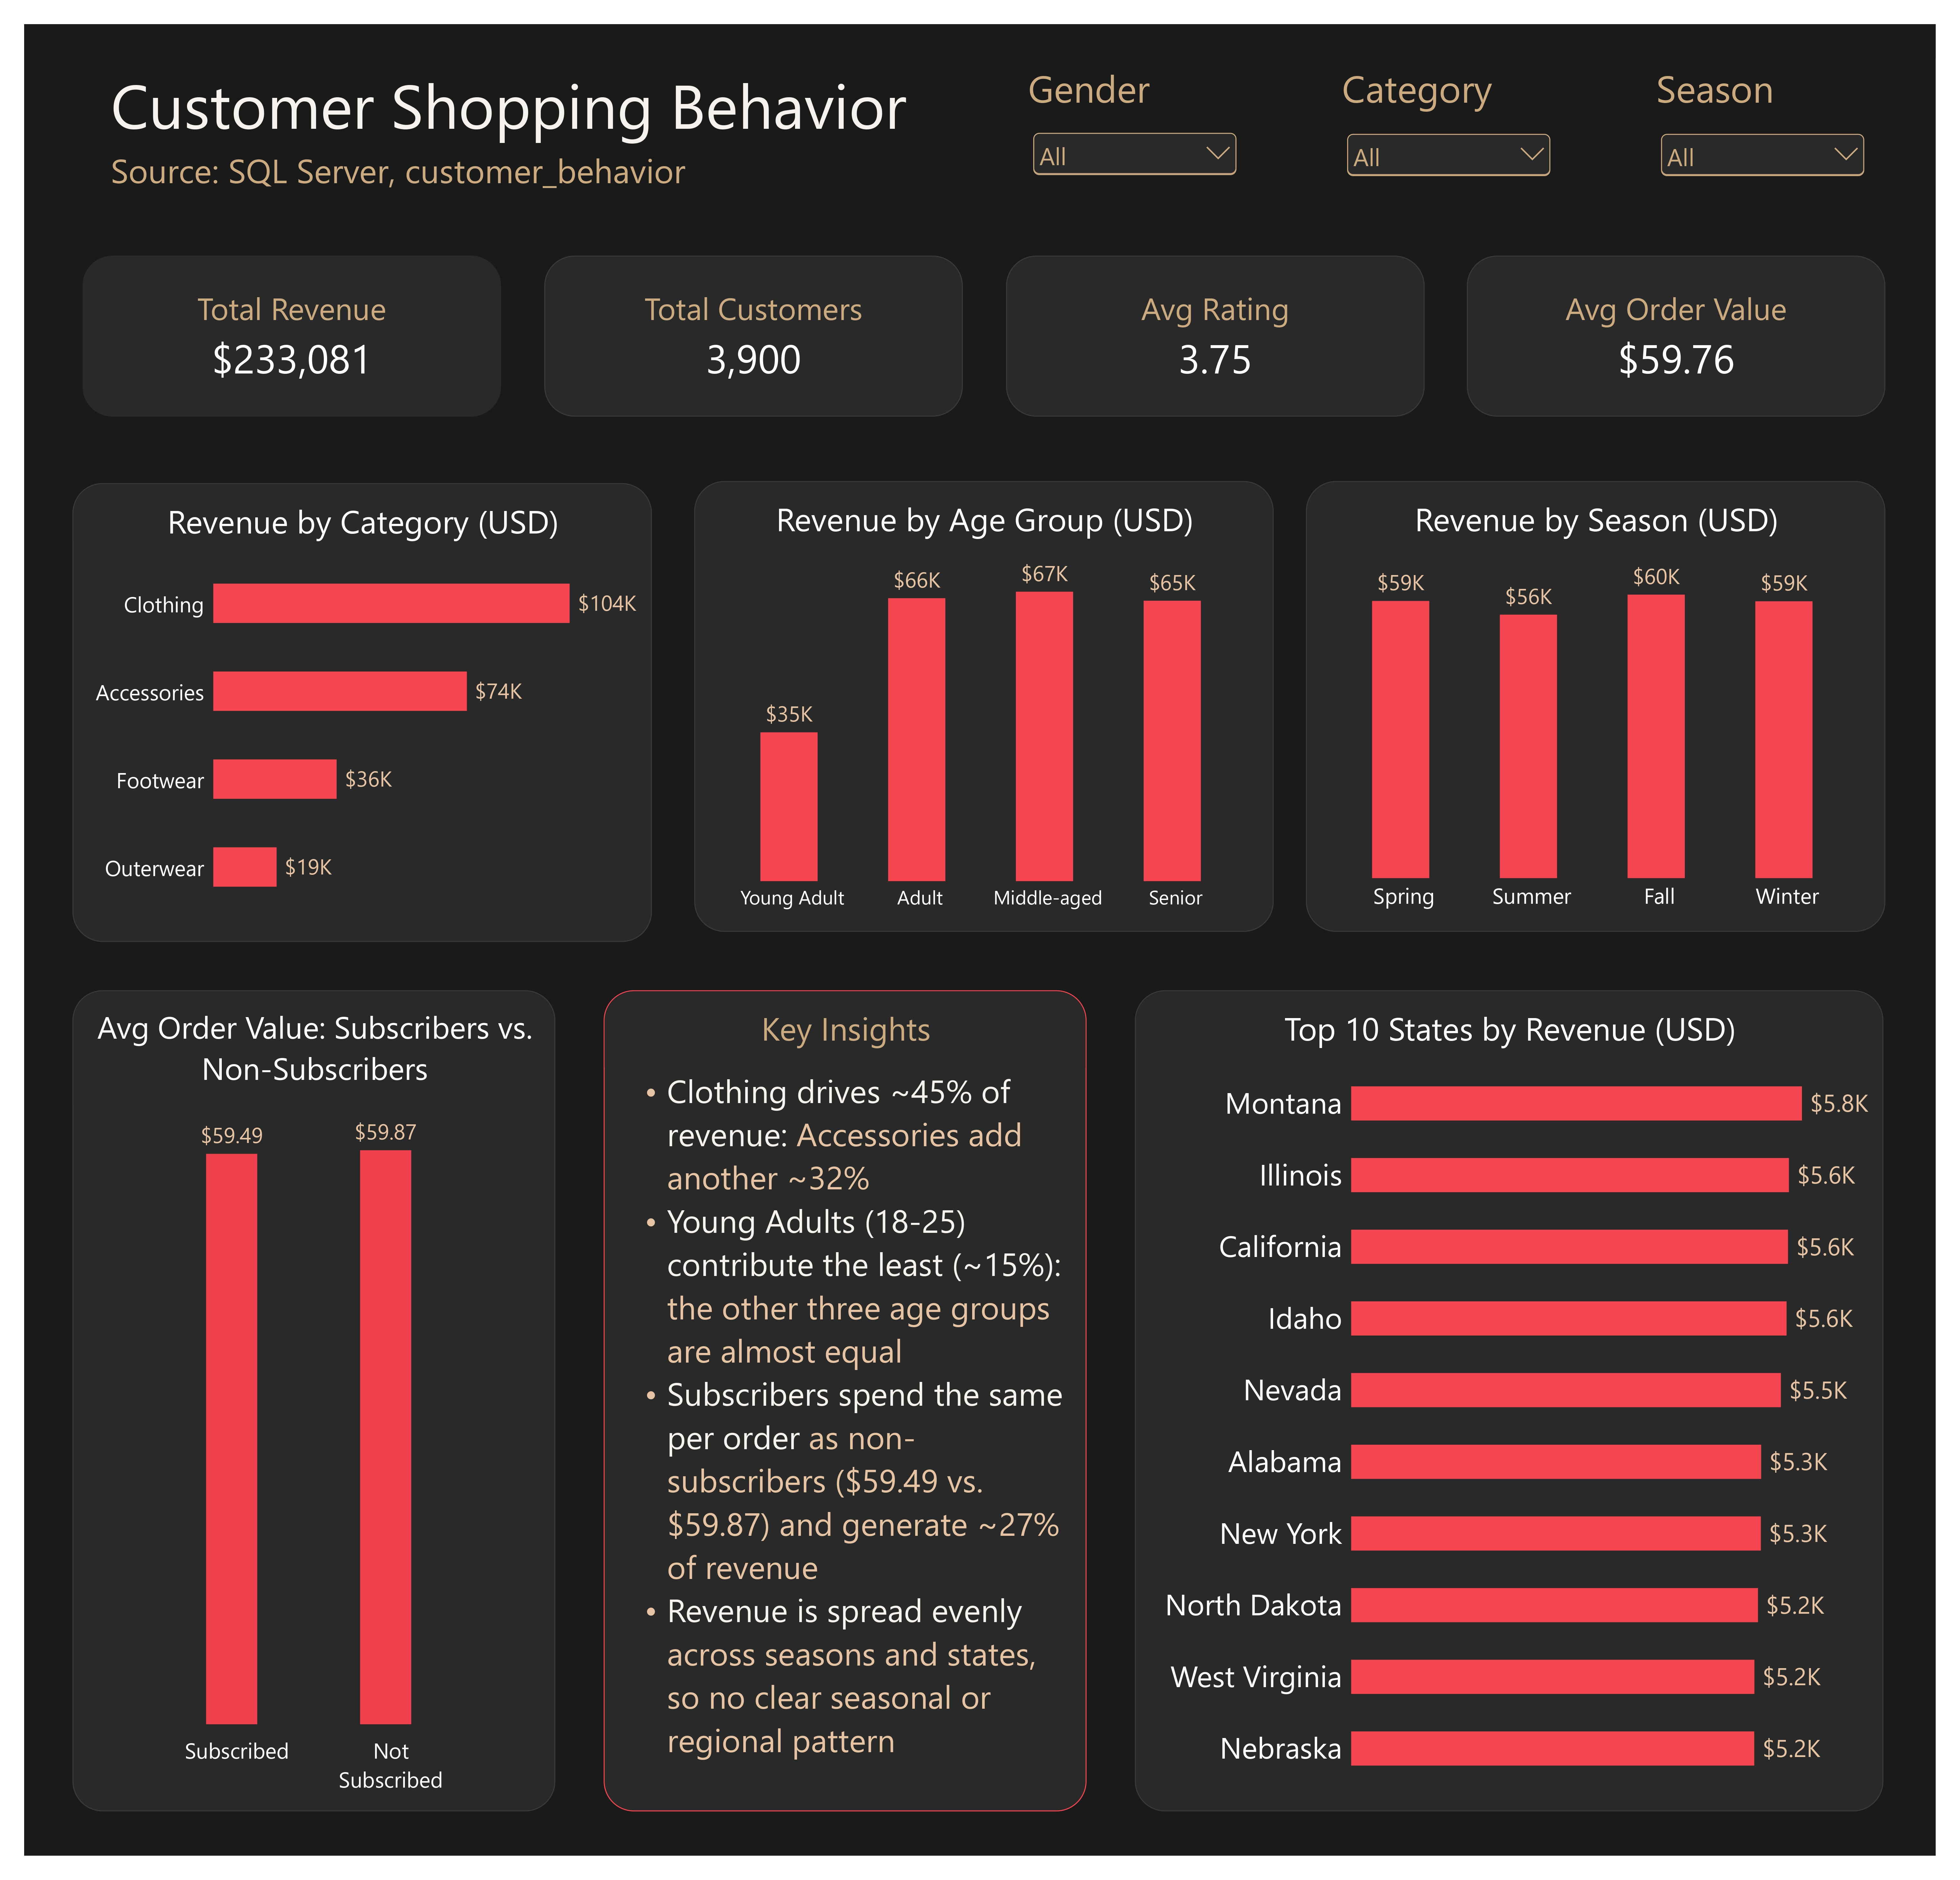

What the dashboard file says about the page in this screenshot:
{"tool":"powerbi","page":{"name":"Customer Shopping Behavior","canvas":[1900,1820],"ordinal":0},"visuals":[{"type":"textbox","title":"Customer Shopping Behavior","box":[72,24,840,144],"z":0},{"type":"slicer","title":"Gender","fields":{"Values":["customer_behavior.gender"]},"box":[984,24,240,144],"z":1000},{"type":"cardVisual","fields":{"Data":["customer_behavior.Total Revenue Full"]},"box":[58.5,229.7,416,160],"z":2000},{"type":"cardVisual","fields":{"Data":["customer_behavior.Avg Order Value"]},"box":[1434.5,229.7,416,160],"z":3000},{"type":"cardVisual","fields":{"Data":["customer_behavior.Avg Rating"]},"box":[975.8,229.7,416,160],"z":4000},{"type":"cardVisual","fields":{"Data":["customer_behavior.Total Customers Full"]},"box":[517.1,229.7,416,160],"z":5000},{"type":"clusteredColumnChart","title":"Revenue by Season (USD)","fields":{"Category":["customer_behavior.season"],"Y":["customer_behavior.Total Revenue"]},"box":[1274.5,453.7,576,448],"z":6000},{"type":"clusteredBarChart","title":"Revenue by Category (USD)","fields":{"Category":["customer_behavior.category"],"Y":["customer_behavior.Total Revenue"]},"box":[48,456,576,456],"z":7000},{"type":"clusteredColumnChart","title":"Revenue by Age Group (USD)","fields":{"Category":["customer_behavior.age_group"],"Y":["customer_behavior.Total Revenue"]},"box":[666.5,453.7,576,448],"z":8000},{"type":"clusteredColumnChart","title":"Avg Order Value: Subscribers vs. Non-Subscribers","fields":{"Category":["customer_behavior.Subscription Label"],"Y":["customer_behavior.Avg Order Value"]},"box":[48,960,480,816],"z":9000},{"type":"clusteredBarChart","title":"Top 10 States by Revenue (USD)","fields":{"Category":["customer_behavior.location"],"Y":["customer_behavior.Total Revenue"]},"box":[1104,960,744,816],"z":10000},{"type":"slicer","title":"Category","fields":{"Values":["customer_behavior.category"]},"box":[1296,24,240,144],"z":11000},{"type":"slicer","title":"Season","fields":{"Values":["customer_behavior.season"]},"box":[1608,24,240,144],"z":12000},{"type":"textbox","title":"Key Insights","box":[576,960,480,816],"z":13000}]}

Visuals, with their boxes in screenshot pixels (x1, y1, x2, y2), scaled from the page's 1900x1820 canvas onto the 1960x1880 screenshot:
"Customer Shopping Behavior" textbox: {"left": 74, "top": 25, "right": 941, "bottom": 174}
"Gender" slicer: {"left": 1015, "top": 25, "right": 1263, "bottom": 174}
cardVisual - customer_behavior.Total Revenue Full: {"left": 60, "top": 237, "right": 490, "bottom": 402}
cardVisual - customer_behavior.Avg Order Value: {"left": 1480, "top": 237, "right": 1909, "bottom": 402}
cardVisual - customer_behavior.Avg Rating: {"left": 1007, "top": 237, "right": 1436, "bottom": 402}
cardVisual - customer_behavior.Total Customers Full: {"left": 533, "top": 237, "right": 962, "bottom": 402}
"Revenue by Season (USD)" clusteredColumnChart: {"left": 1315, "top": 469, "right": 1909, "bottom": 931}
"Revenue by Category (USD)" clusteredBarChart: {"left": 50, "top": 471, "right": 644, "bottom": 942}
"Revenue by Age Group (USD)" clusteredColumnChart: {"left": 688, "top": 469, "right": 1282, "bottom": 931}
"Avg Order Value: Subscribers vs. Non-Subscribers" clusteredColumnChart: {"left": 50, "top": 992, "right": 545, "bottom": 1835}
"Top 10 States by Revenue (USD)" clusteredBarChart: {"left": 1139, "top": 992, "right": 1906, "bottom": 1835}
"Category" slicer: {"left": 1337, "top": 25, "right": 1584, "bottom": 174}
"Season" slicer: {"left": 1659, "top": 25, "right": 1906, "bottom": 174}
"Key Insights" textbox: {"left": 594, "top": 992, "right": 1089, "bottom": 1835}
